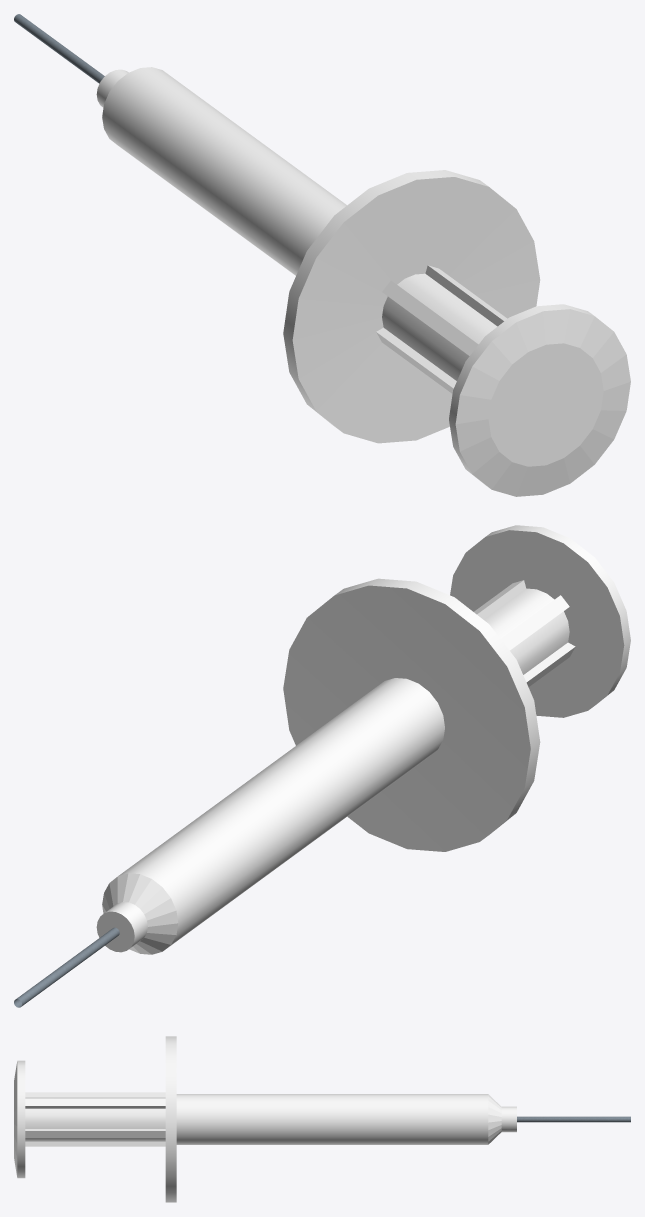
Rendered from syringe.fbx.
The picture shows the model from 3 angles, top to bottom: view 1: azimuth 30°, elevation 25°; view 2: azimuth 150°, elevation 25°; view 3: azimuth 270°, elevation 25°; orthographic projection. The views are drawn at different scales.
Parts seen in each view (by area): view 1: syringe; view 2: syringe; view 3: syringe.
Part boxes in pixels (x1=…): syringe: x1=14, y1=14, x2=630, y2=496; syringe: x1=14, y1=525, x2=630, y2=1007; syringe: x1=14, y1=1036, x2=630, y2=1202.
Bounding box in the file's own units: 10.63 × 10.7 × 39.27.
1 material, 1 textured.
